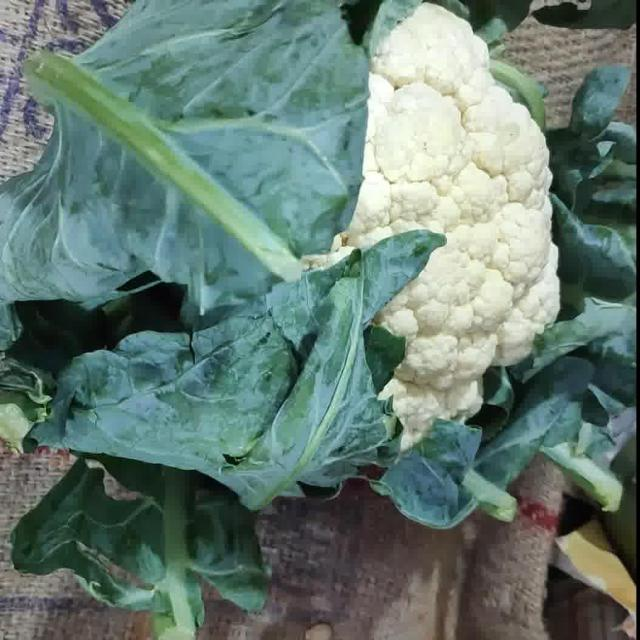Cauliflower: (302, 3, 560, 450)
